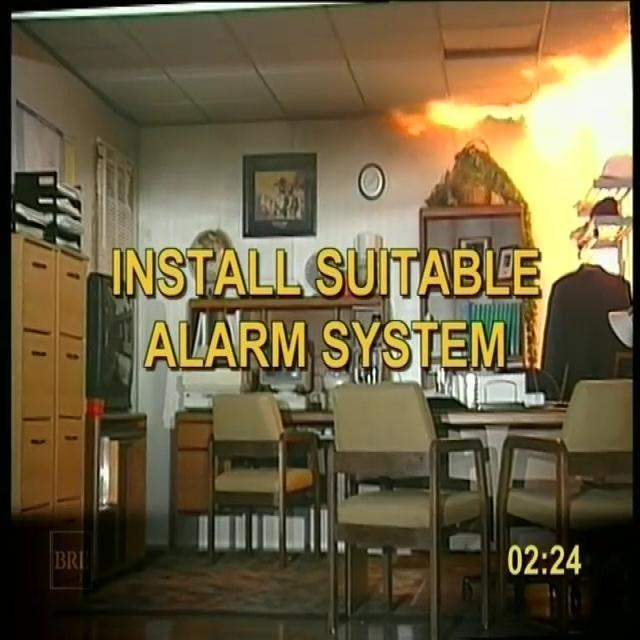Fire: (336, 40, 640, 286)
